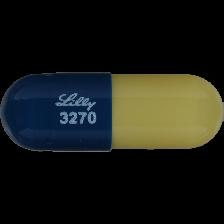68151-4727: (0, 0, 224, 224)
